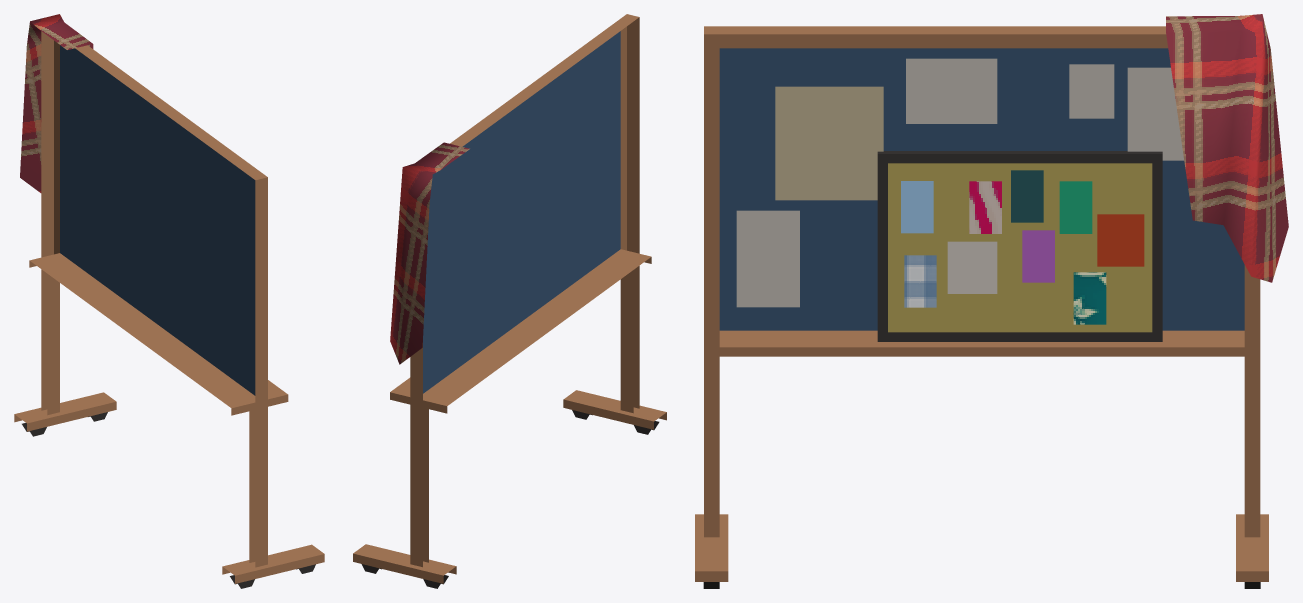
File: interior_D_011.fbx
3 renders of one model, left to right at view 1: azimuth 30°, elevation 25°; view 2: azimuth 150°, elevation 25°; view 3: azimuth 270°, elevation 25°, orthographic. The views are drawn at different scales.
Visible parts, largest first — view 1: interior_D_011; view 2: interior_D_011; view 3: interior_D_011.
Part boxes in pixels (x1,y1,x2,y2): interior_D_011: (14, 14, 324, 588); interior_D_011: (353, 14, 666, 588); interior_D_011: (695, 14, 1288, 588).
Bounding box in the file's own units: 38.52 × 168 × 170.
